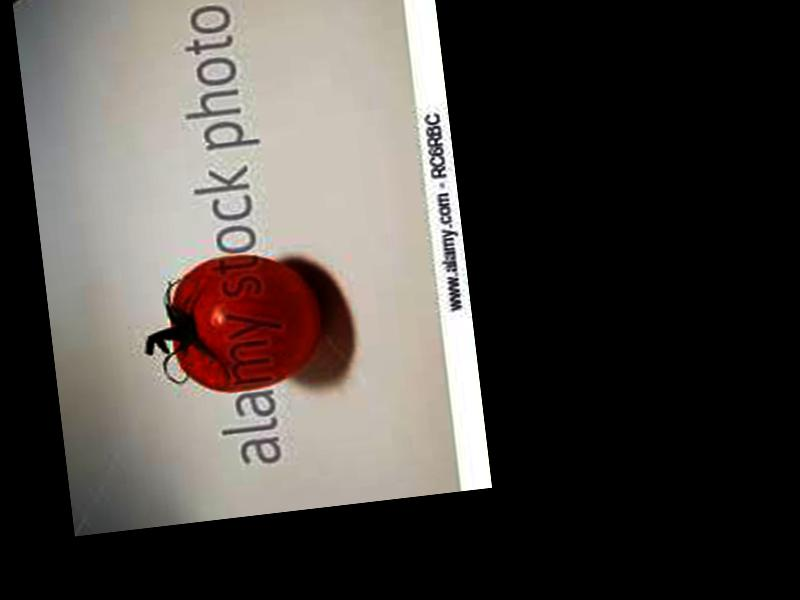Tomato: (161, 246, 327, 398)
